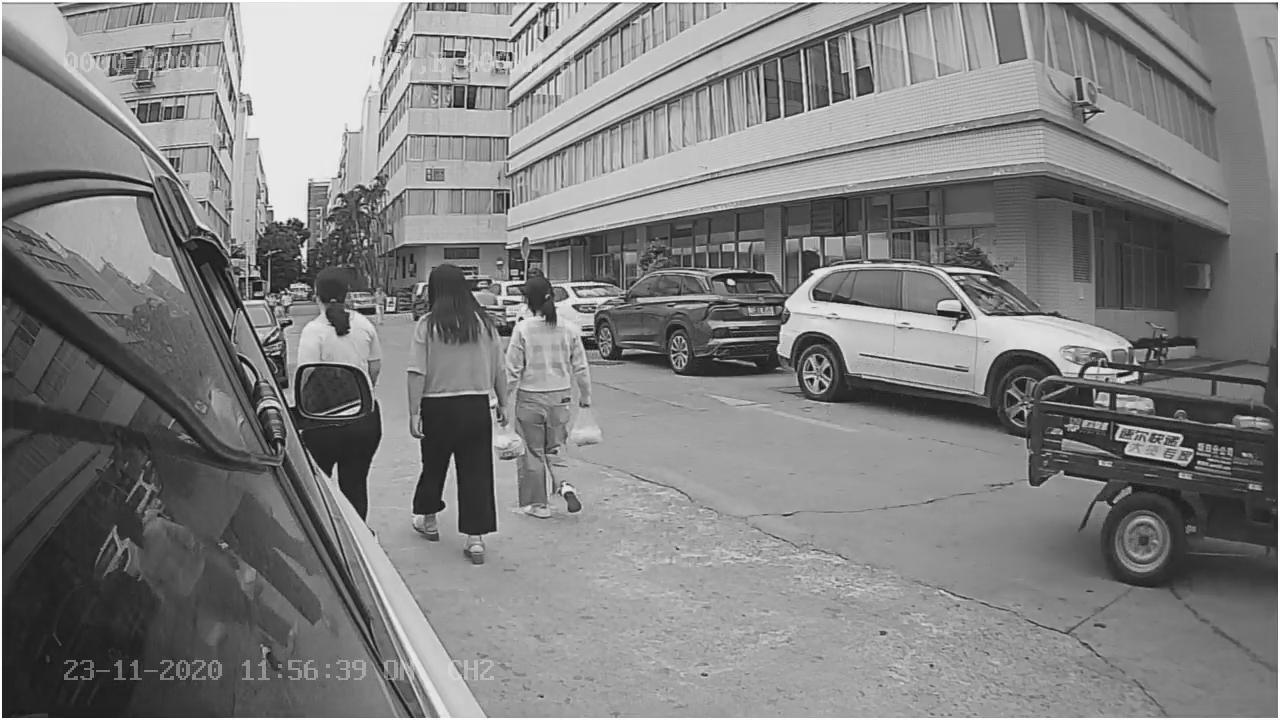person: (391, 257, 512, 567), (500, 271, 613, 528), (296, 268, 383, 365)
